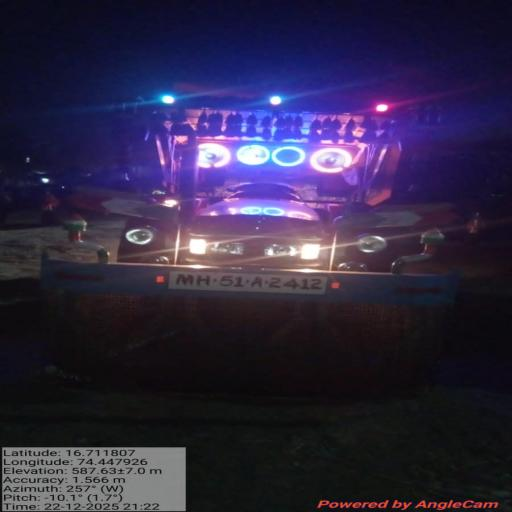number_plate: (169, 271, 327, 294)
